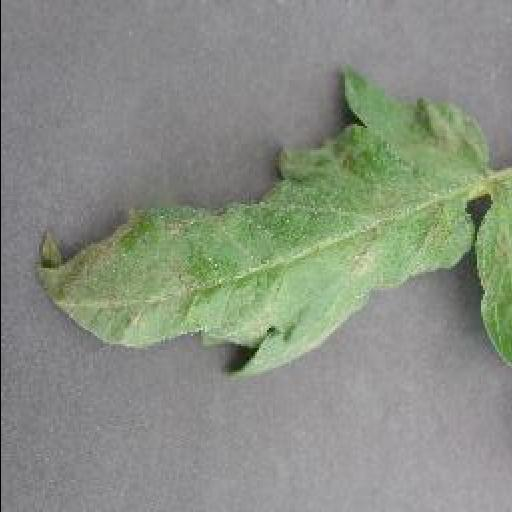disease_tomato: (36, 60, 512, 374)
